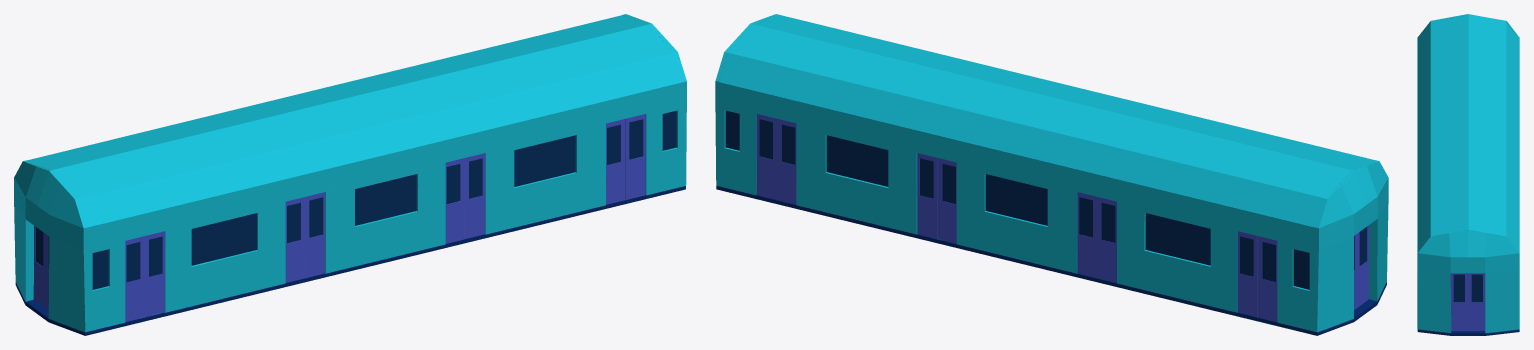
File: TrainCarYay.fbx
3 views of the same model, side by side, from view 1: azimuth 30°, elevation 25°; view 2: azimuth 150°, elevation 25°; view 3: azimuth 270°, elevation 25° (orthographic). The views are drawn at different scales.
Visible parts, largest first — view 1: roof, wall, back, floor, window25, window26, window, sideDoor5, sideDoor9, sideDoor10, sideDoor1, sideDoor (+10 smaller); view 2: roof, wall1, back, floor, window27, window23, window24, sideDoor15, sideDoor27, sideDoor21, sideDoor23, sideDoor25 (+11 smaller); view 3: roof, front2, frontdoor1, frontdoor, floor, window35, window34, wall, back.
Boxes of the visible parts, <box> form: roof: <box>27,15,682,227</box>; wall: <box>83,81,686,332</box>; back: <box>14,160,87,331</box>; floor: <box>15,186,685,335</box>; window25: <box>191,213,256,265</box>; window26: <box>514,135,575,186</box>; window: <box>355,174,416,225</box>; sideDoor5: <box>464,153,485,239</box>; sideDoor9: <box>625,114,645,200</box>; sideDoor10: <box>144,231,164,317</box>; sideDoor1: <box>285,197,305,282</box>; sideDoor: <box>305,192,324,278</box>; roof: <box>719,15,1375,227</box>; wall1: <box>715,81,1318,331</box>; back: <box>1315,160,1388,331</box>; floor: <box>716,186,1386,335</box>; window27: <box>1145,213,1210,265</box>; window23: <box>985,174,1047,225</box>; window24: <box>826,135,888,186</box>; sideDoor15: <box>756,114,777,199</box>; sideDoor27: <box>1237,231,1257,317</box>; sideDoor21: <box>917,153,937,239</box>; sideDoor23: <box>1077,192,1097,277</box>; sideDoor25: <box>1097,197,1116,282</box>; roof: <box>1417,14,1519,251</box>; front2: <box>1417,228,1519,333</box>; frontdoor1: <box>1450,273,1468,330</box>; frontdoor: <box>1468,273,1485,330</box>; floor: <box>1417,329,1519,335</box>; window35: <box>1453,274,1464,301</box>; window34: <box>1471,274,1482,301</box>; wall: <box>1417,38,1417,280</box>; back: <box>1417,14,1519,38</box>.
Size of the model in its own units: 15.65 by 3.34 by 3.02.
Materials: 1 (1 with a texture image).
